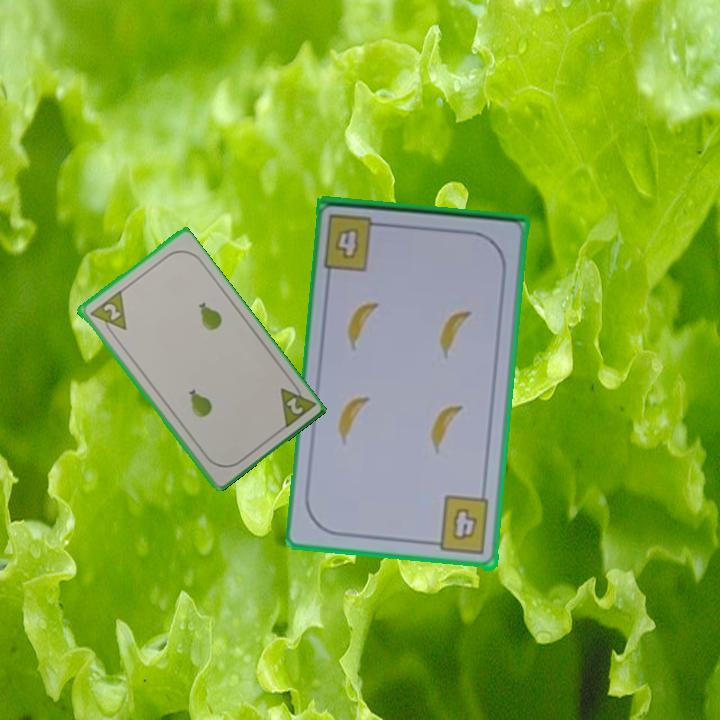2p: (276, 376, 317, 432), (86, 288, 129, 341)
4b: (426, 493, 492, 558), (332, 224, 363, 263)
